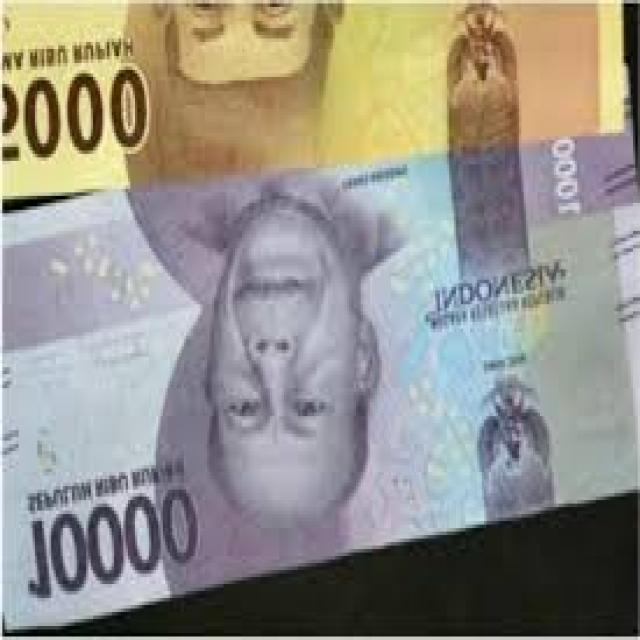lima ribu rupiah: (0, 0, 625, 197)
sepuluh ribu rupiah: (0, 116, 639, 629)
